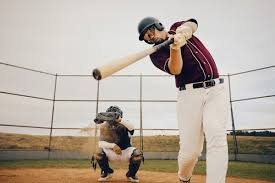baseball bat: (90, 33, 188, 81)
